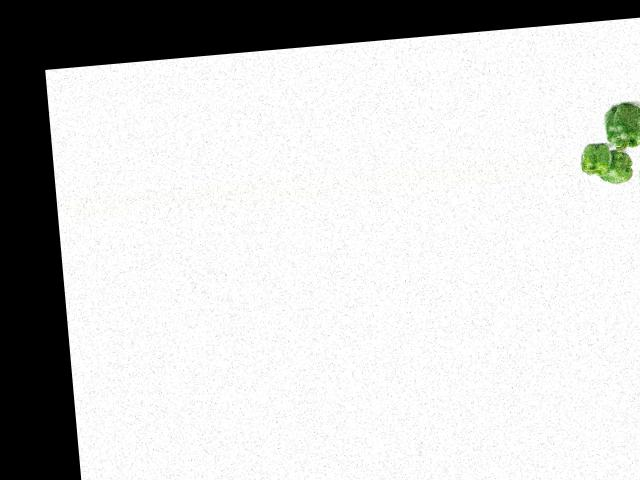bell_pepper: (578, 138, 615, 175)
